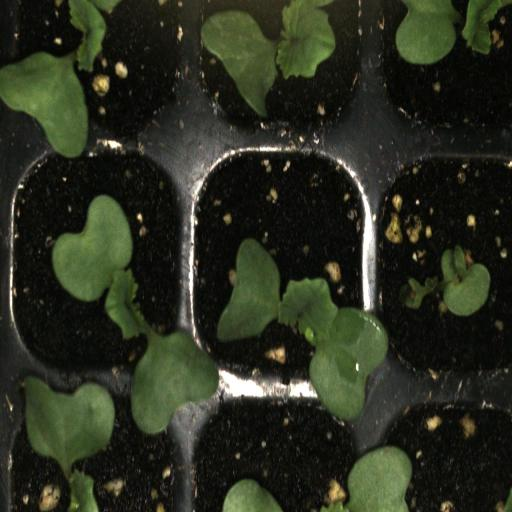Folha: (320, 445, 412, 512), (406, 249, 491, 317), (222, 479, 282, 512)
Germinacao: (5, 134, 190, 382), (191, 133, 371, 382), (375, 136, 512, 391), (5, 383, 190, 512), (8, 0, 189, 131), (192, 0, 372, 130), (375, 0, 512, 133)
